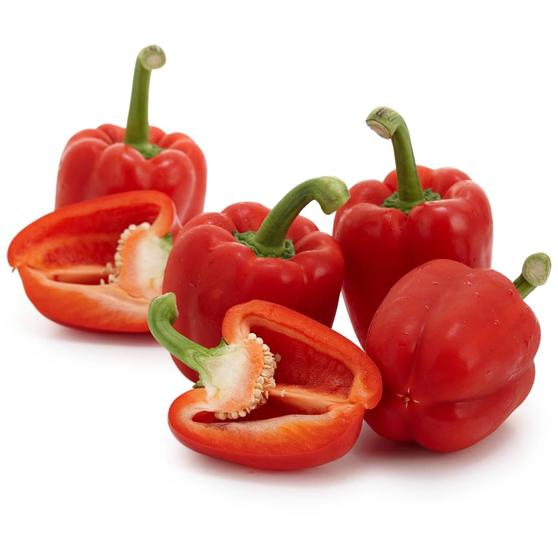pepper: (371, 255, 547, 461), (166, 202, 342, 351)
